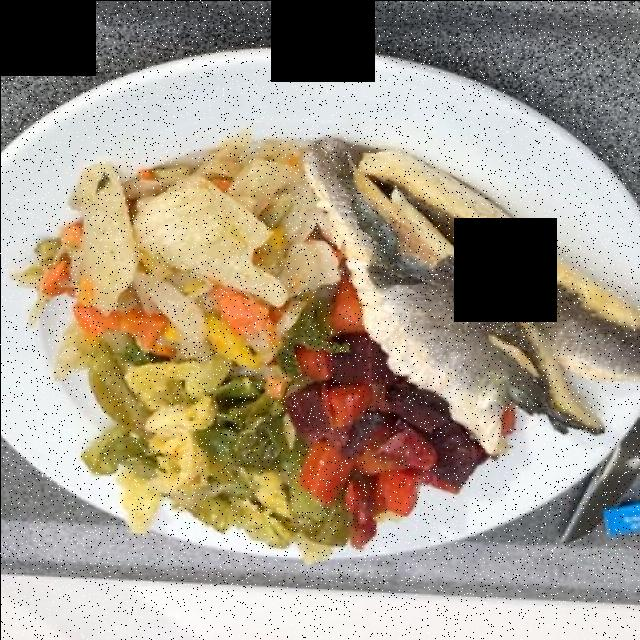beetroot-raw: (279, 293, 478, 547)
fennel: (66, 141, 343, 362)
fish: (303, 142, 626, 450)
